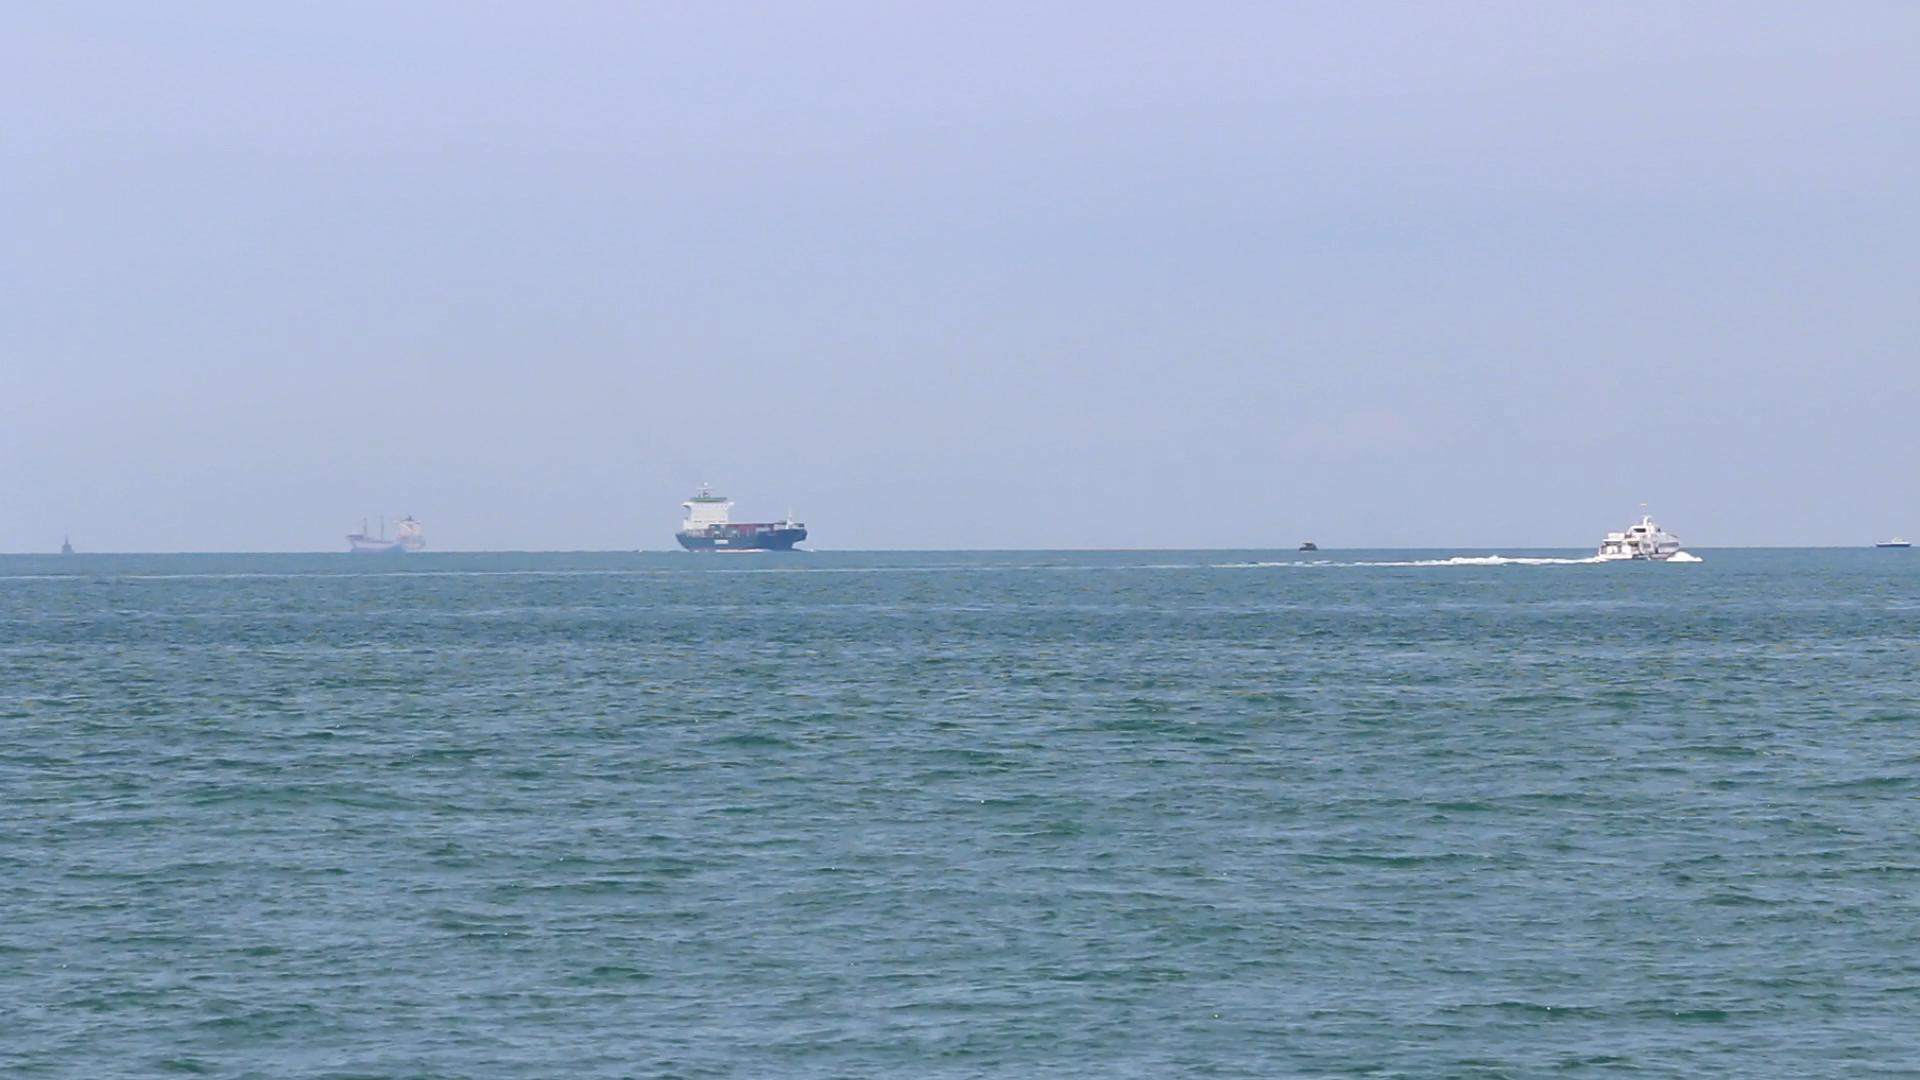Container Ship: (669, 469, 815, 559), (344, 502, 438, 559), (1866, 529, 1917, 553)
